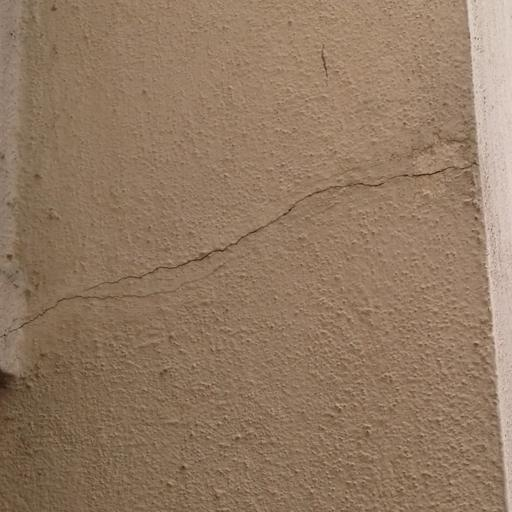minor_crack: (0, 140, 512, 350)
